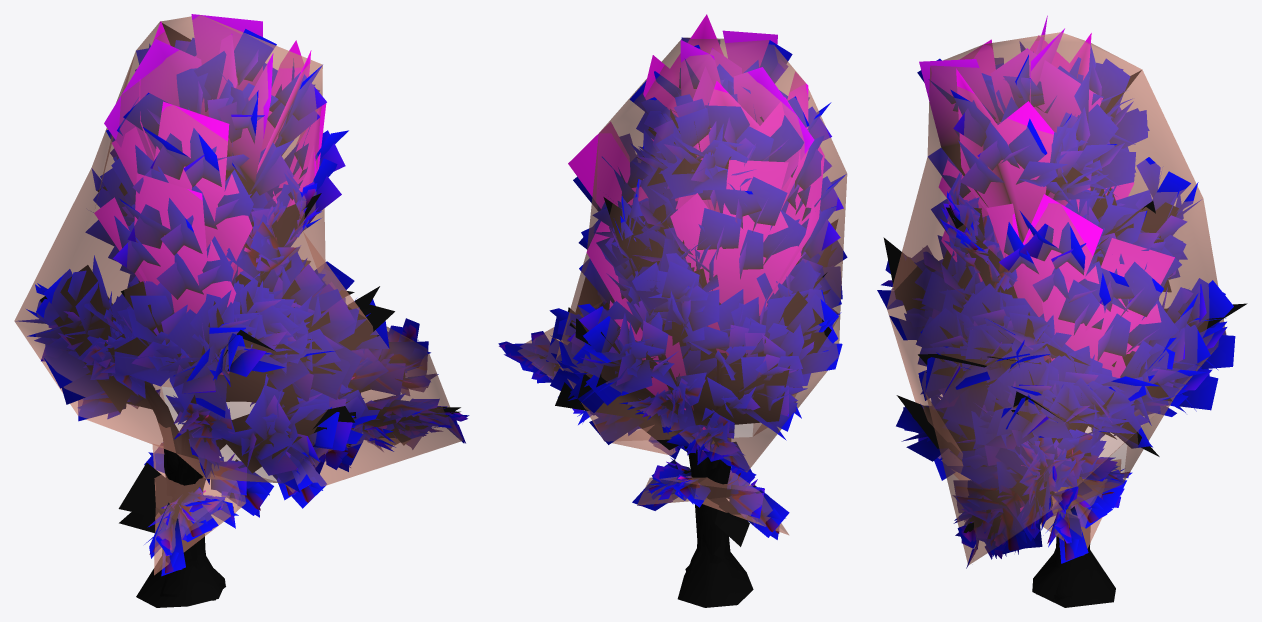
File: tree_beech_large_b.dae
The picture shows the model from 3 angles, left to right: view 1: azimuth 30°, elevation 25°; view 2: azimuth 150°, elevation 25°; view 3: azimuth 270°, elevation 25°; orthographic projection. The views are drawn at different scales.
Parts seen in each view (by area): view 1: Colmesh_large_b-1, beech_large_b_a1100, beech_large_b_a600, beech_large_b_a300; view 2: Colmesh_large_b-1, beech_large_b_a1100, beech_large_b_a600, beech_large_b_a300; view 3: Colmesh_large_b-1, beech_large_b_a1100, beech_large_b_a600, beech_large_b_a300.
Part boxes in pixels (x1,y1,x2,y2): Colmesh_large_b-1: [14, 15, 462, 607]; beech_large_b_a1100: [16, 14, 467, 597]; beech_large_b_a600: [34, 24, 469, 597]; beech_large_b_a300: [27, 38, 311, 600]; Colmesh_large_b-1: [517, 37, 847, 607]; beech_large_b_a1100: [499, 14, 846, 577]; beech_large_b_a600: [498, 95, 847, 581]; beech_large_b_a300: [504, 152, 804, 559]; Colmesh_large_b-1: [887, 32, 1226, 607]; beech_large_b_a1100: [877, 15, 1247, 601]; beech_large_b_a600: [891, 86, 1226, 601]; beech_large_b_a300: [1035, 189, 1136, 603].
Bounding box in the file's own units: 14.41 × 12.46 × 21.15.
